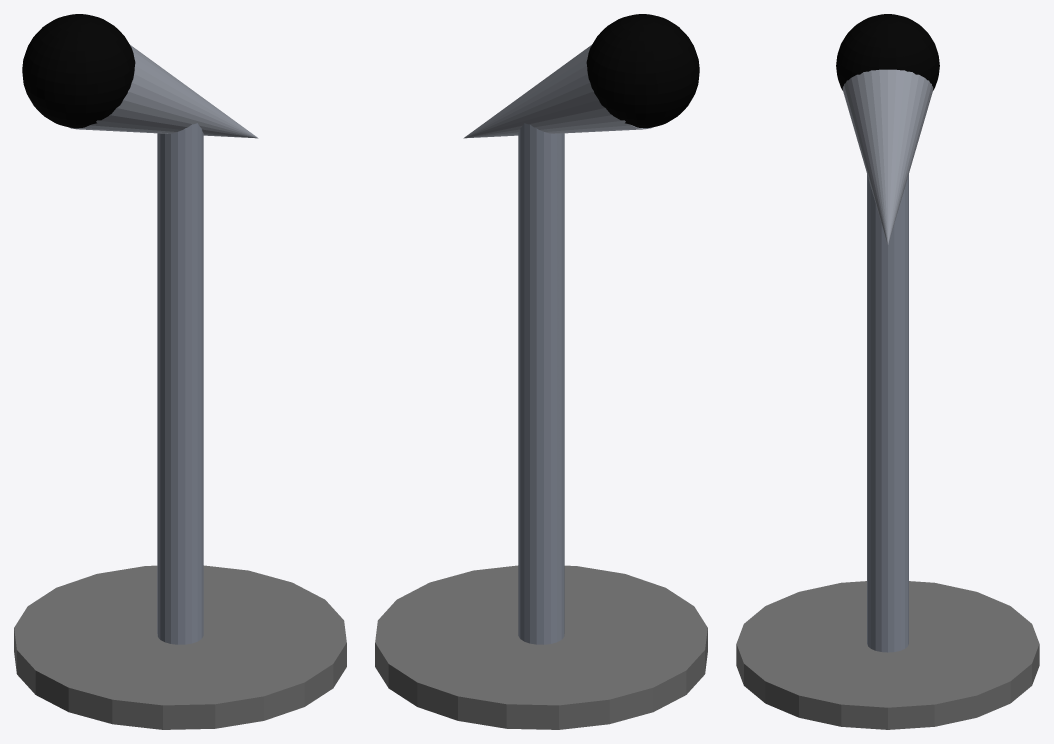
Rendered from microphone.fbx.
The picture shows the model from 3 angles, left to right: view 1: azimuth 30°, elevation 25°; view 2: azimuth 150°, elevation 25°; view 3: azimuth 270°, elevation 25°; orthographic projection. The views are drawn at different scales.
Parts seen in each view (by area): view 1: Cylinder.010, Cylinder.009, Sphere.006, Cone; view 2: Cylinder.010, Cylinder.009, Sphere.006, Cone; view 3: Cylinder.010, Cylinder.009, Cone, Sphere.006.
Part boxes in pixels (left/top/right/bottom): Cylinder.010: left=14, top=565, right=346, bottom=729; Cylinder.009: left=157, top=123, right=203, bottom=644; Sphere.006: left=22, top=14, right=135, bottom=128; Cone: left=69, top=45, right=258, bottom=138; Cylinder.010: left=375, top=565, right=707, bottom=729; Cylinder.009: left=518, top=123, right=564, bottom=644; Sphere.006: left=586, top=14, right=699, bottom=128; Cone: left=463, top=45, right=652, bottom=138; Cylinder.010: left=736, top=581, right=1039, bottom=729; Cylinder.009: left=867, top=174, right=908, bottom=652; Cone: left=842, top=69, right=933, bottom=244; Sphere.006: left=836, top=14, right=939, bottom=90.
Bounding box in the file's own units: 204 × 439 × 200.
